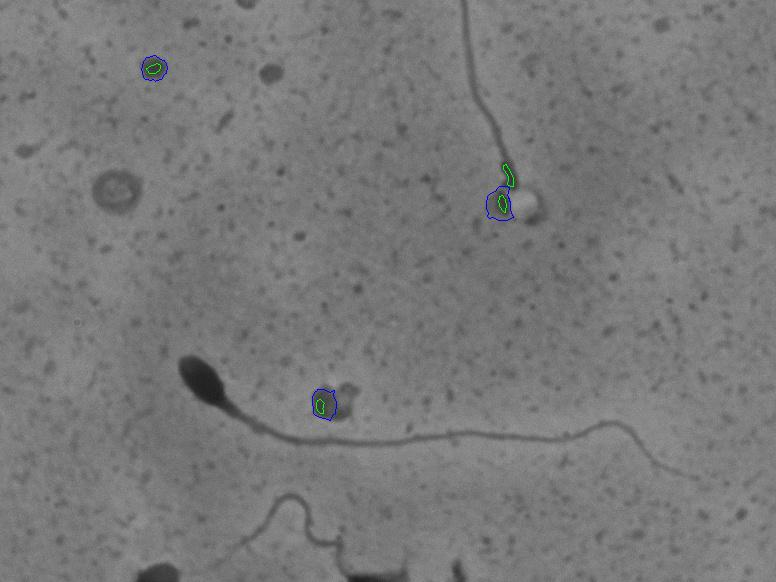Normal: (167, 344, 727, 494)
